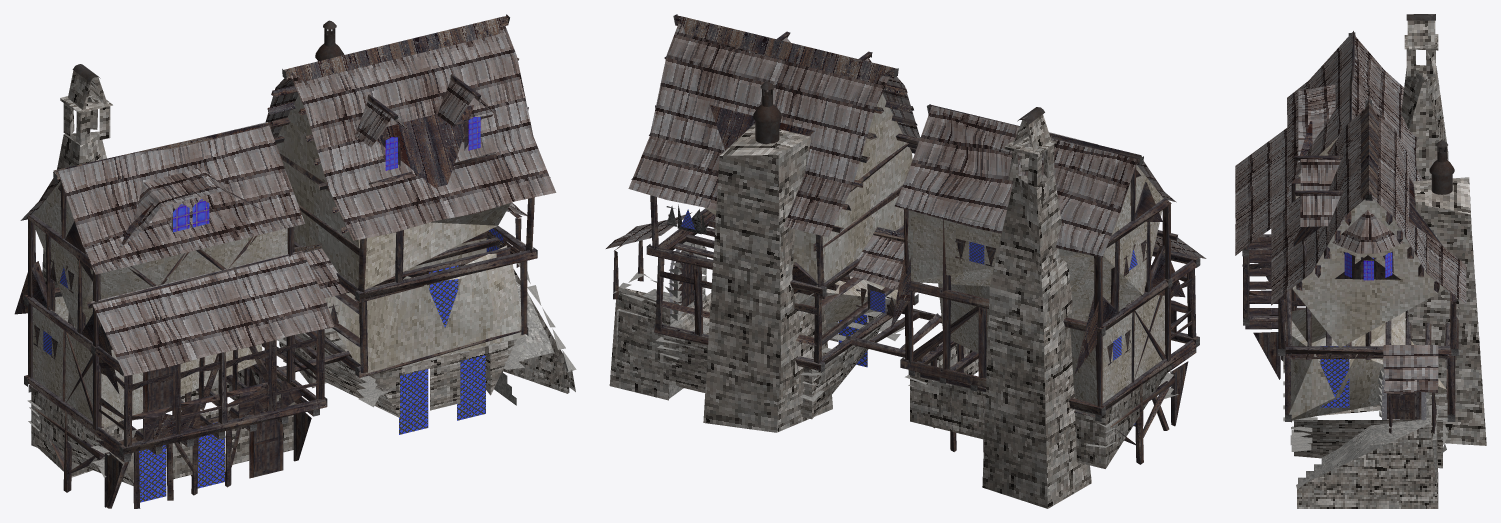
Rendered from oga_house_1.glb.
3 views of the same model, side by side, from view 1: azimuth 30°, elevation 25°; view 2: azimuth 150°, elevation 25°; view 3: azimuth 270°, elevation 25° (orthographic). The views are drawn at different scales.
Visible parts, largest first — view 1: oga_house_1; view 2: oga_house_1; view 3: oga_house_1.
Boxes of the visible parts, bbox=[...] form: oga_house_1: bbox=[14, 14, 576, 508]; oga_house_1: bbox=[606, 14, 1206, 508]; oga_house_1: bbox=[1235, 14, 1486, 508].
Bounding box in the file's own units: 16.5 × 12.23 × 8.43.
Materials: 12 (12 with a texture image).
